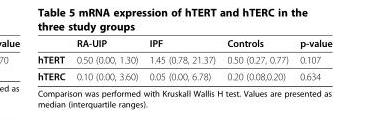table: (36, 37, 331, 81)
table column: (143, 37, 220, 81), (70, 37, 143, 81), (220, 37, 293, 81), (293, 37, 331, 81), (36, 37, 70, 81)
table column header: (36, 37, 331, 51)
table row: (36, 51, 331, 67), (36, 37, 331, 51), (36, 67, 331, 81)
